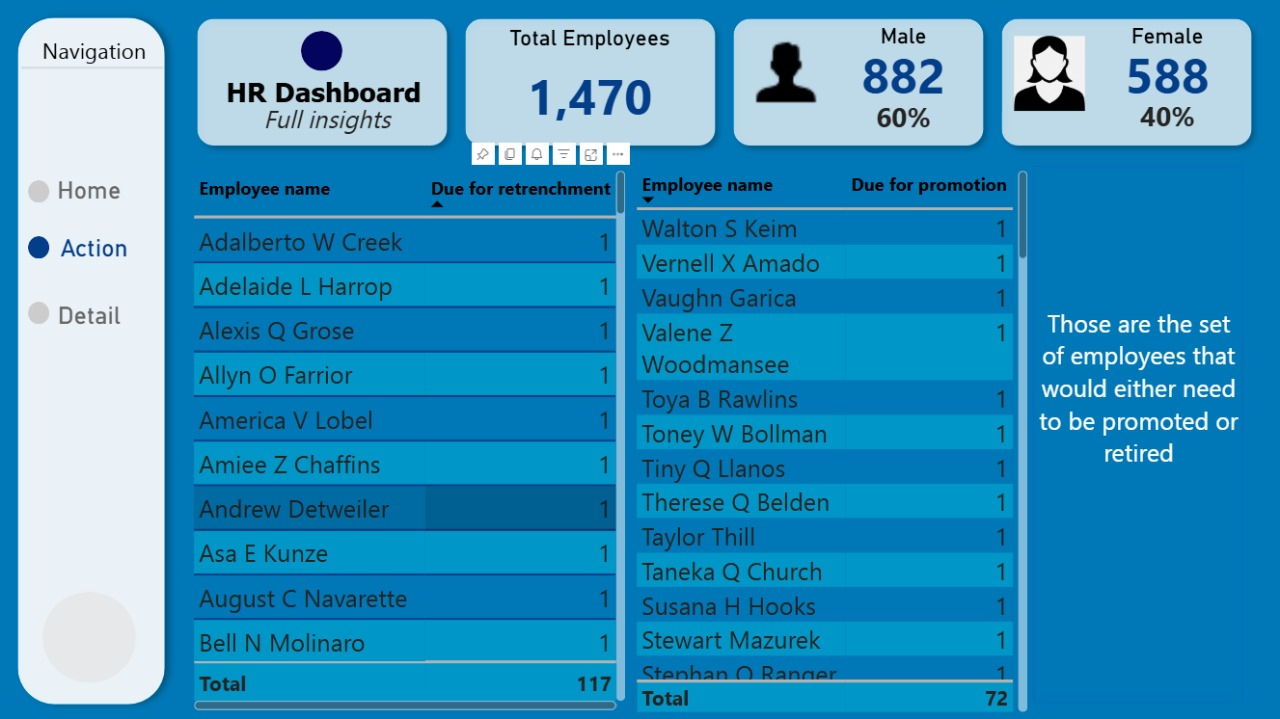

This screenshot's page, from the dashboard's own definition file:
{"tool":"powerbi","page":{"name":"Action","canvas":[1280,720],"ordinal":2},"visuals":[{"type":"shape","box":[1028.6,166.2,207,530.1],"z":0},{"type":"shape","box":[16.5,9.6,166.5,699.2],"z":1000},{"type":"shape","box":[195.4,12.4,264.3,143.1],"z":2000},{"type":"shape","box":[459.7,12.4,264.3,143.1],"z":3000},{"type":"shape","box":[724,12.4,264.3,143.1],"z":4000},{"type":"shape","box":[988.2,12.4,264.3,143.1],"z":5000},{"type":"textbox","box":[209.7,71.2,238.7,51.4],"z":6000},{"type":"textbox","box":[36.9,33,130.5,51.4],"z":7000},{"type":"textbox","box":[209.7,97.6,251.9,55.4],"z":8000},{"type":"shape","box":[305.9,33,40.9,39.6],"z":9000},{"type":"card","title":"Total Employees","fields":{"Values":["All Measures.Total Emp"]},"box":[468,27.5,246.4,112.9],"z":10000},{"type":"card","title":"Male","fields":{"Values":["All Measures.Male"]},"box":[814.8,26.2,170.7,75.7],"z":11000},{"type":"card","fields":{"Values":["All Measures.Male %"]},"box":[834.1,90.8,132.1,55.1],"z":12000},{"type":"card","title":"Female","fields":{"Values":["All Measures.Female"]},"box":[1068.7,26.2,183.1,75.7],"z":13000},{"type":"card","fields":{"Values":["All Measures.Female %"]},"box":[1083.9,90.8,152.8,53.7],"z":14000},{"type":"image","box":[736.3,26.2,95,90.8],"z":15000},{"type":"image","box":[1004.7,33,79.8,84],"z":16000},{"type":"tableEx","fields":{"Values":["HR employee data.Emplyee name","All Measures.Due for retirment"]},"box":[195.4,166.5,436.3,542.3],"z":17000},{"type":"tableEx","fields":{"Values":["HR employee data.Emplyee name","All Measures.Due for promotion"]},"box":[631.7,166.5,396.4,543.7],"z":18000},{"type":"textbox","box":[1029.3,299.6,206.6,217.4],"z":19000},{"type":"shape","box":[36.9,300.7,21.1,22.4],"z":20000},{"type":"actionButton","title":"Detail","box":[27.7,300.7,139.8,58],"z":21000},{"type":"shape","box":[36.9,236,21.1,22.4],"z":22000},{"type":"actionButton","title":"Action","box":[36.9,233.8,130.5,34.5],"z":23000},{"type":"shape","box":[36.9,180.7,21.1,22.4],"z":24000},{"type":"actionButton","title":"Home","box":[27.7,176.7,139.8,56.7],"z":25000},{"type":"shape","box":[51.4,586.8,92.3,89.7],"z":26000},{"type":"shape","box":[30.2,61.6,140.1,15.7],"z":27000}]}

Visuals, with their boxes on the page's 1280x720 design canvas (x1, y1, x2, y2). These are canvas units, not pixel positions in the 1280x719 screenshot, which may show the page scaled, cropped or inside an application window:
shape: 1029, 166, 1236, 696
shape: 16, 10, 183, 709
shape: 195, 12, 460, 156
shape: 460, 12, 724, 156
shape: 724, 12, 988, 156
shape: 988, 12, 1252, 156
textbox: 210, 71, 448, 123
textbox: 37, 33, 167, 84
textbox: 210, 98, 462, 153
shape: 306, 33, 347, 73
"Total Employees" card: 468, 28, 714, 140
"Male" card: 815, 26, 986, 102
card - All Measures.Male %: 834, 91, 966, 146
"Female" card: 1069, 26, 1252, 102
card - All Measures.Female %: 1084, 91, 1237, 144
image: 736, 26, 831, 117
image: 1005, 33, 1084, 117
tableEx - HR employee data.Emplyee name x All Measures.Due for retirment: 195, 166, 632, 709
tableEx - HR employee data.Emplyee name x All Measures.Due for promotion: 632, 166, 1028, 710
textbox: 1029, 300, 1236, 517
shape: 37, 301, 58, 323
"Detail" actionButton: 28, 301, 168, 359
shape: 37, 236, 58, 258
"Action" actionButton: 37, 234, 167, 268
shape: 37, 181, 58, 203
"Home" actionButton: 28, 177, 168, 233
shape: 51, 587, 144, 676
shape: 30, 62, 170, 77
